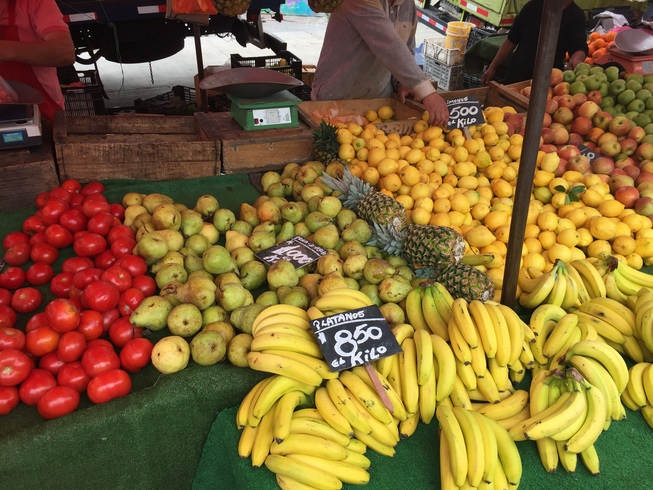precio: (305, 301, 401, 381), (256, 226, 339, 282), (440, 95, 498, 139)
